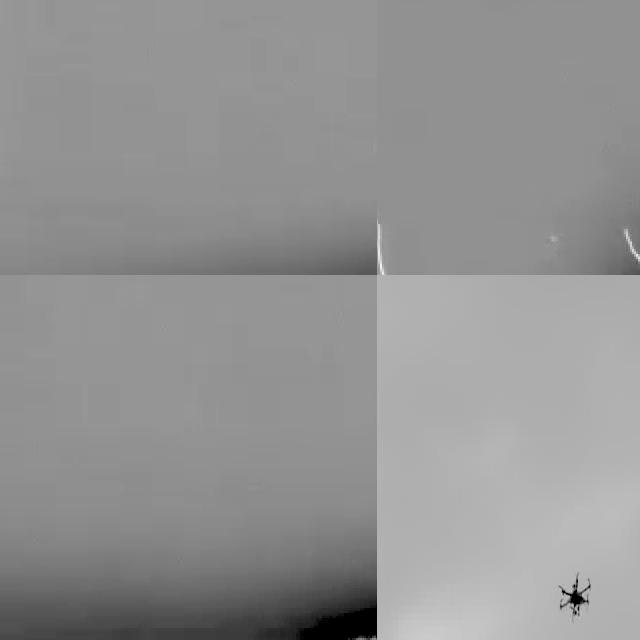0: (536, 226, 570, 260)
drone: (555, 568, 596, 620)
